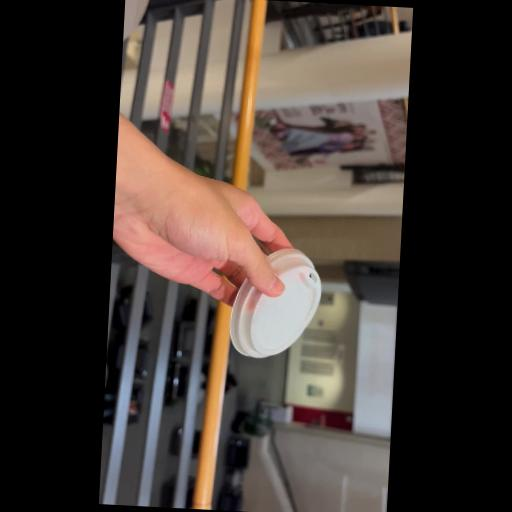lp_cup_lids: (226, 243, 328, 363)
